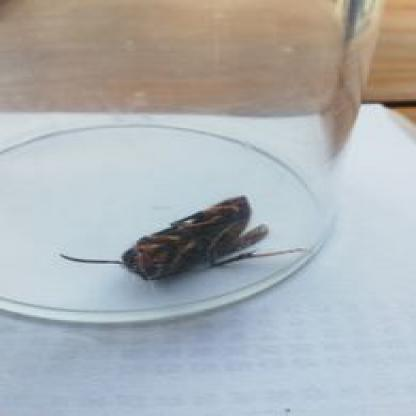Asian Hornet: (112, 190, 276, 290)
